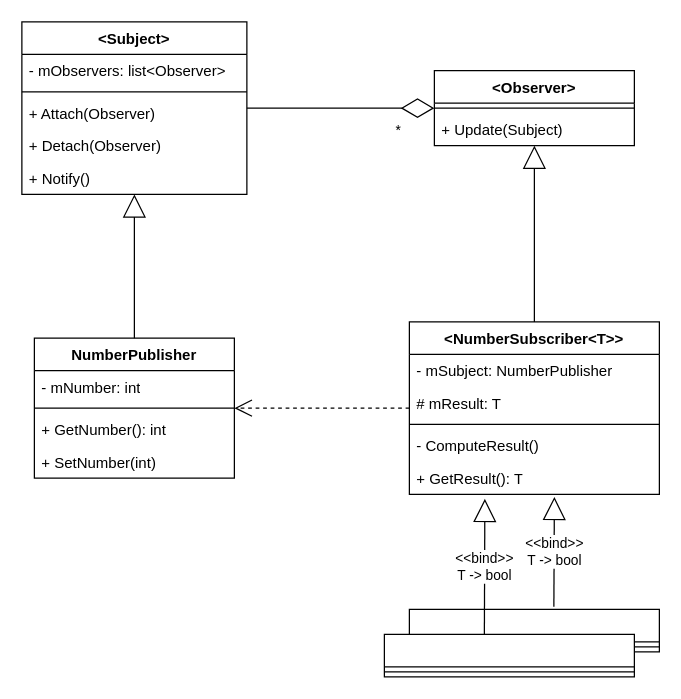
Some shapes in this 681 by 699 pixel diagram are drawn without their labels. The centre of each missing label's shape, as x and y in pixels:
EvenNumberSubscriber: (533,630)
PrimeNumberSubscriber: (508,655)
